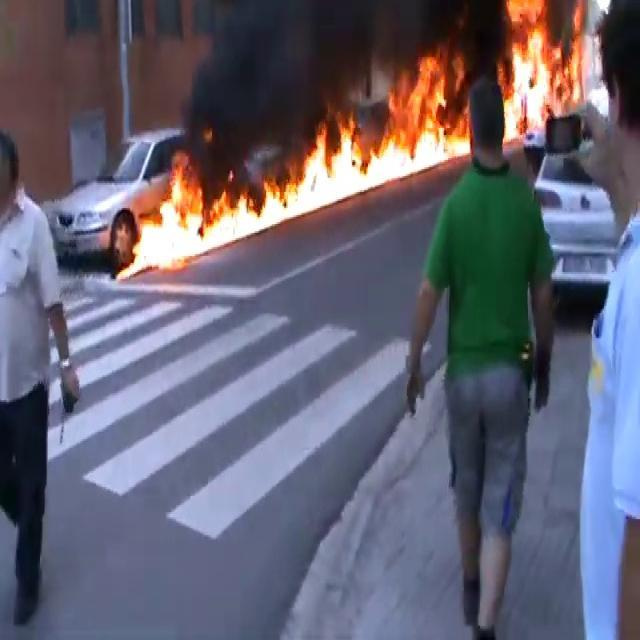Fire: (296, 49, 470, 200), (122, 147, 294, 273), (497, 1, 590, 138)
